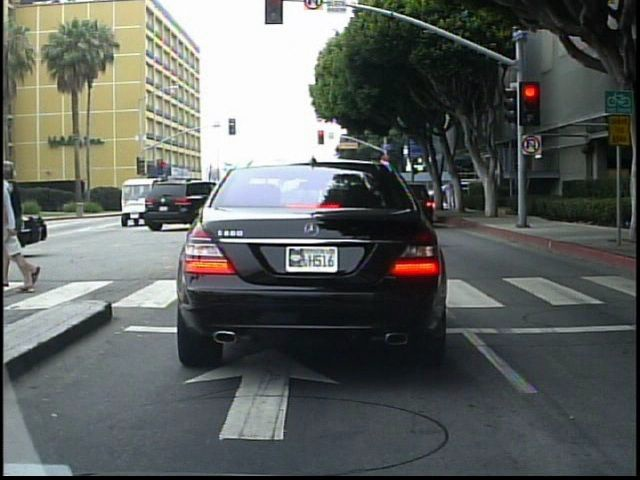person: (443, 180, 456, 211)
